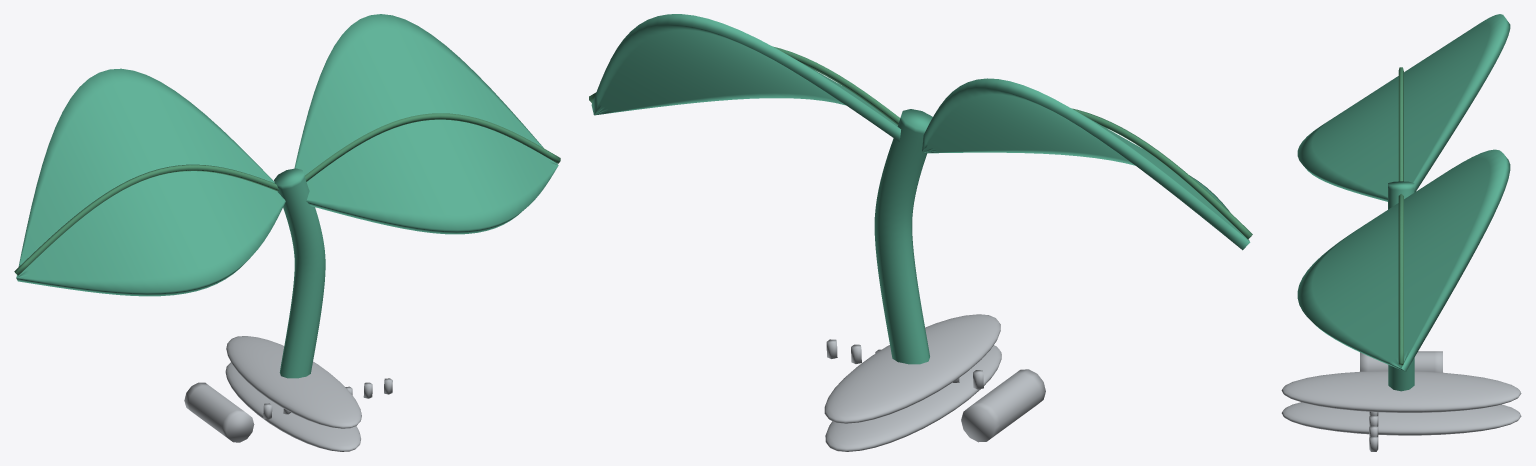
File: Feminine-side-sweep--bucket-sprout.glb
3 views of the same model, side by side, from view 1: azimuth 30°, elevation 25°; view 2: azimuth 150°, elevation 25°; view 3: azimuth 270°, elevation 25° (orthographic). The views are drawn at different scales.
Visible parts, largest first — view 1: 226 extra / Accessory / mint226, 226 extra / Sprout / clip silver235, 226 extra / Sprout / leaf vein235; view 2: 226 extra / Accessory / mint226, 226 extra / Sprout / clip silver235, 226 extra / Sprout / leaf vein235; view 3: 226 extra / Accessory / mint226, 226 extra / Sprout / clip silver235, 226 extra / Sprout / leaf vein235.
Boxes of the visible parts, left/top/right/bottom form: 226 extra / Accessory / mint226: left=16, top=14, right=558, bottom=378; 226 extra / Sprout / clip silver235: left=184, top=336, right=392, bottom=451; 226 extra / Sprout / leaf vein235: left=14, top=113, right=560, bottom=275; 226 extra / Accessory / mint226: left=591, top=14, right=1250, bottom=364; 226 extra / Sprout / clip silver235: left=824, top=314, right=1045, bottom=451; 226 extra / Sprout / leaf vein235: left=589, top=46, right=1252, bottom=239; 226 extra / Accessory / mint226: left=1297, top=14, right=1510, bottom=391; 226 extra / Sprout / clip silver235: left=1281, top=351, right=1521, bottom=451; 226 extra / Sprout / leaf vein235: left=1398, top=67, right=1403, bottom=365.
Size of the model in its own units: 0.2715 by 0.1615 by 0.104.
